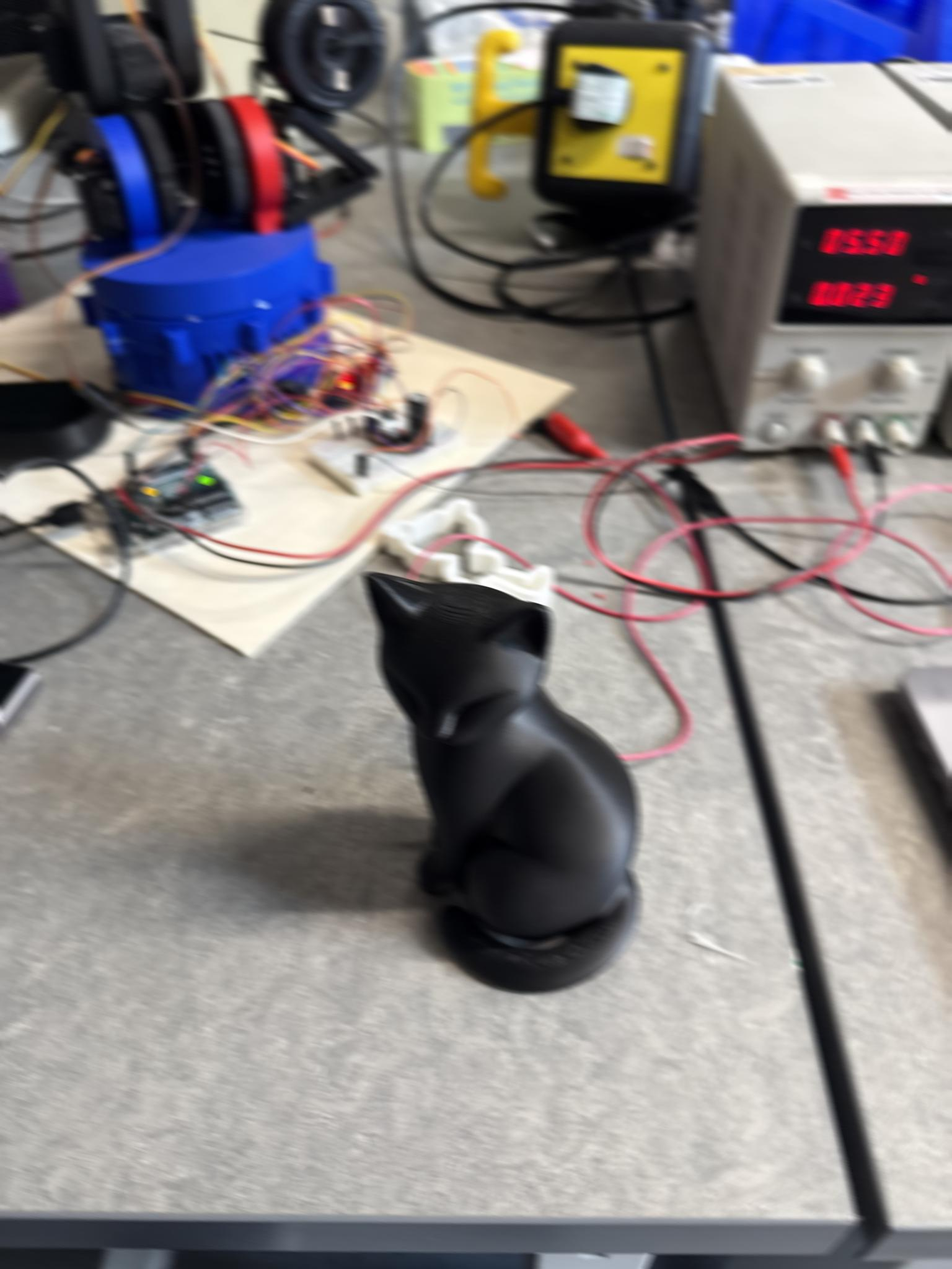cat: (363, 570, 640, 992)
